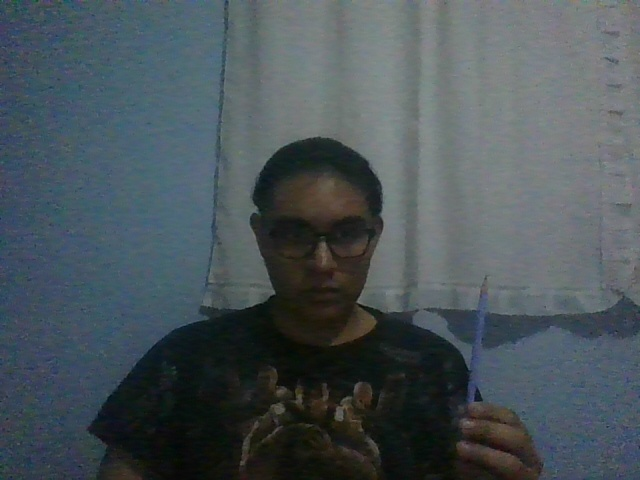lapiz: (465, 275, 489, 402)
